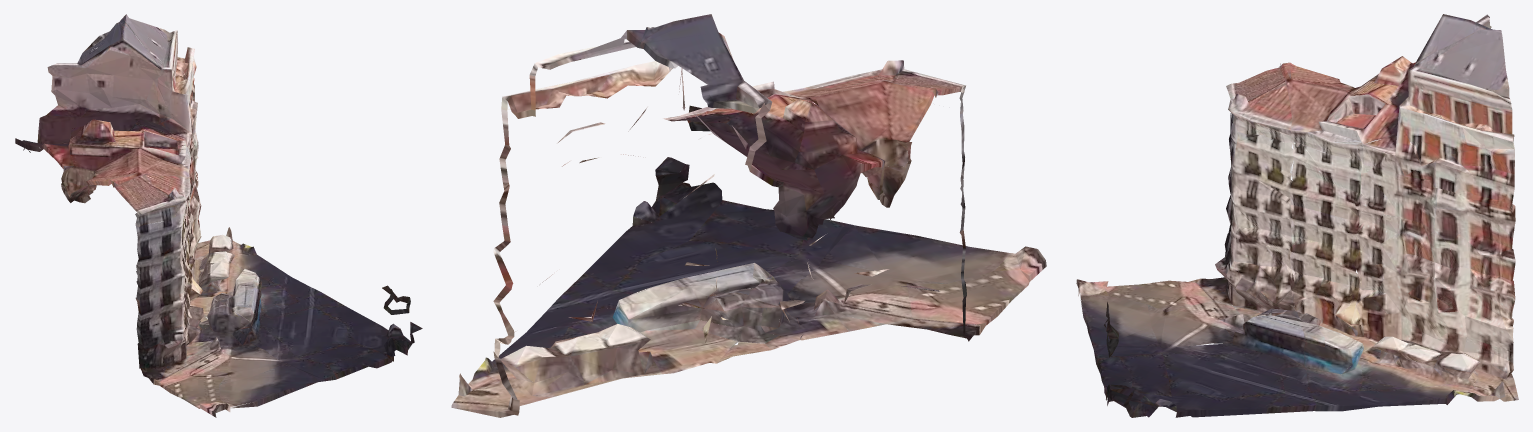
3 views of the same model, side by side, from view 1: azimuth 30°, elevation 25°; view 2: azimuth 150°, elevation 25°; view 3: azimuth 270°, elevation 25° (orthographic). The views are drawn at different scales.
Visible parts, largest first — view 1: Mesh_0; view 2: Mesh_0; view 3: Mesh_0.
Boxes of the visible parts, x1,y1,x2,y2 form: Mesh_0: (15,14,422,417); Mesh_0: (451,14,1046,417); Mesh_0: (1076,14,1518,417).
Bounding box in the file's own units: 33.57 × 32.2 × 41.46.
2 materials, 2 textured.
